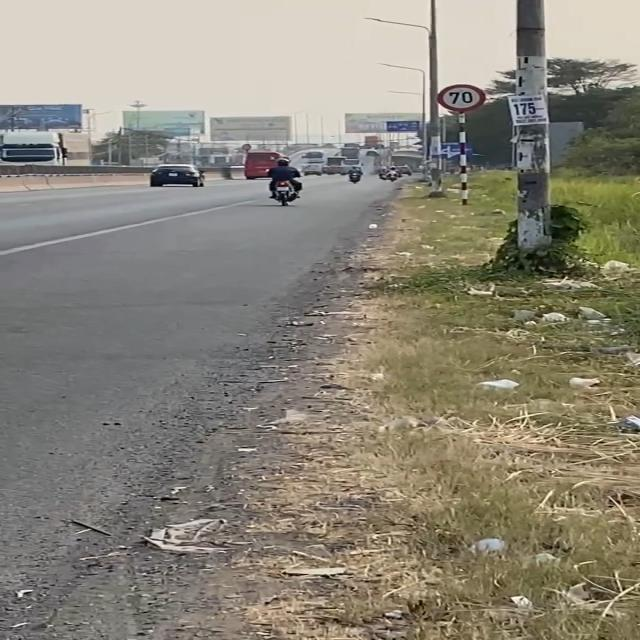127-toc-do-toi-da-70: (434, 83, 486, 113)
